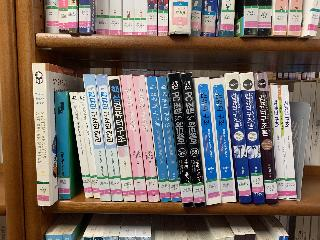book-spine: (225, 72, 253, 204), (83, 73, 111, 202), (95, 73, 123, 202), (120, 74, 148, 202), (132, 75, 160, 203), (168, 73, 194, 208), (239, 72, 265, 206), (253, 72, 279, 205), (194, 77, 221, 205), (108, 75, 135, 202), (210, 77, 237, 203), (145, 75, 171, 203), (156, 76, 182, 202), (181, 72, 205, 208), (33, 62, 50, 206), (78, 92, 100, 199), (70, 92, 92, 198), (278, 84, 297, 198), (268, 84, 286, 199), (55, 91, 70, 199)
